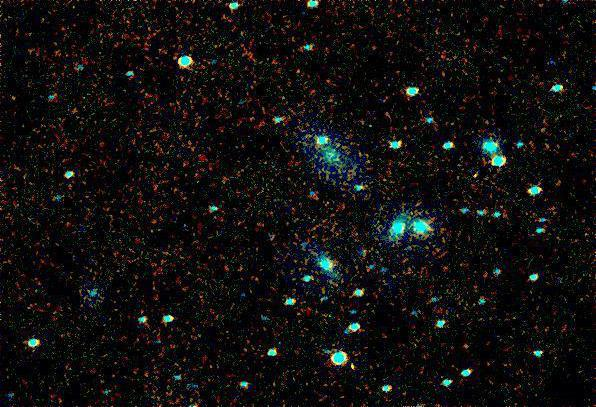star: (461, 160, 491, 190)
